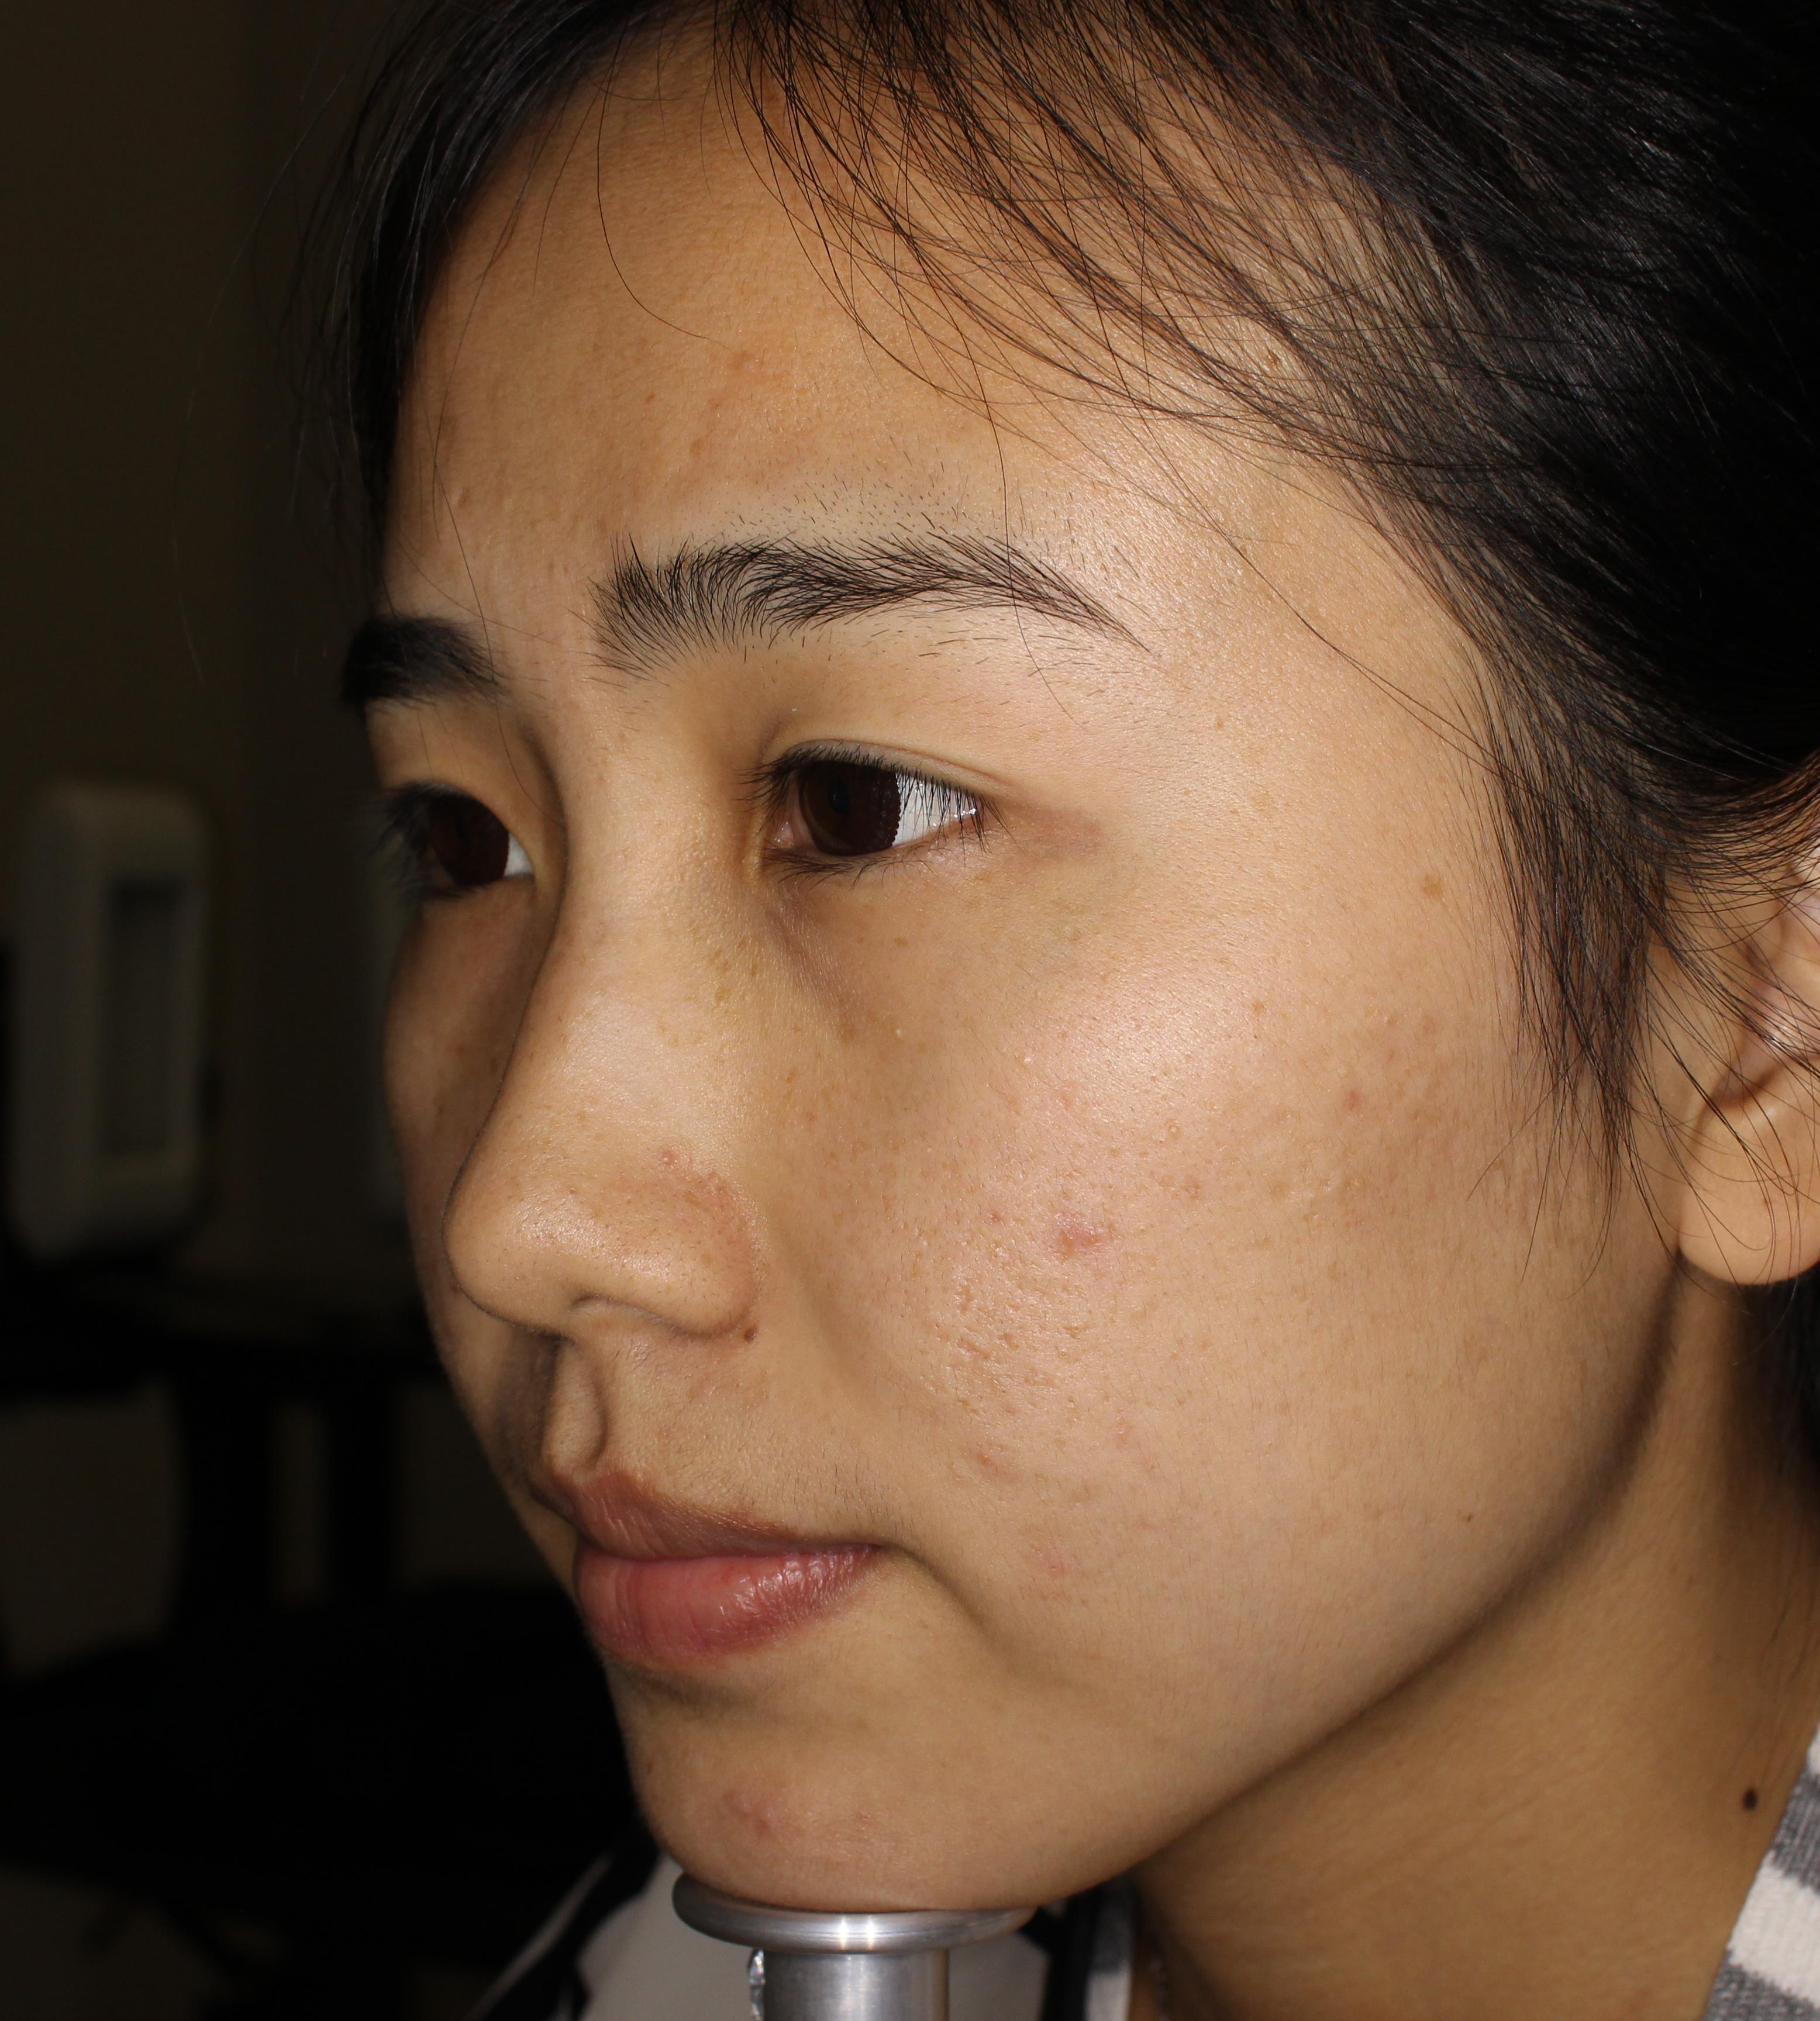fore: (722, 1782, 794, 1863), (1045, 1190, 1100, 1294)
